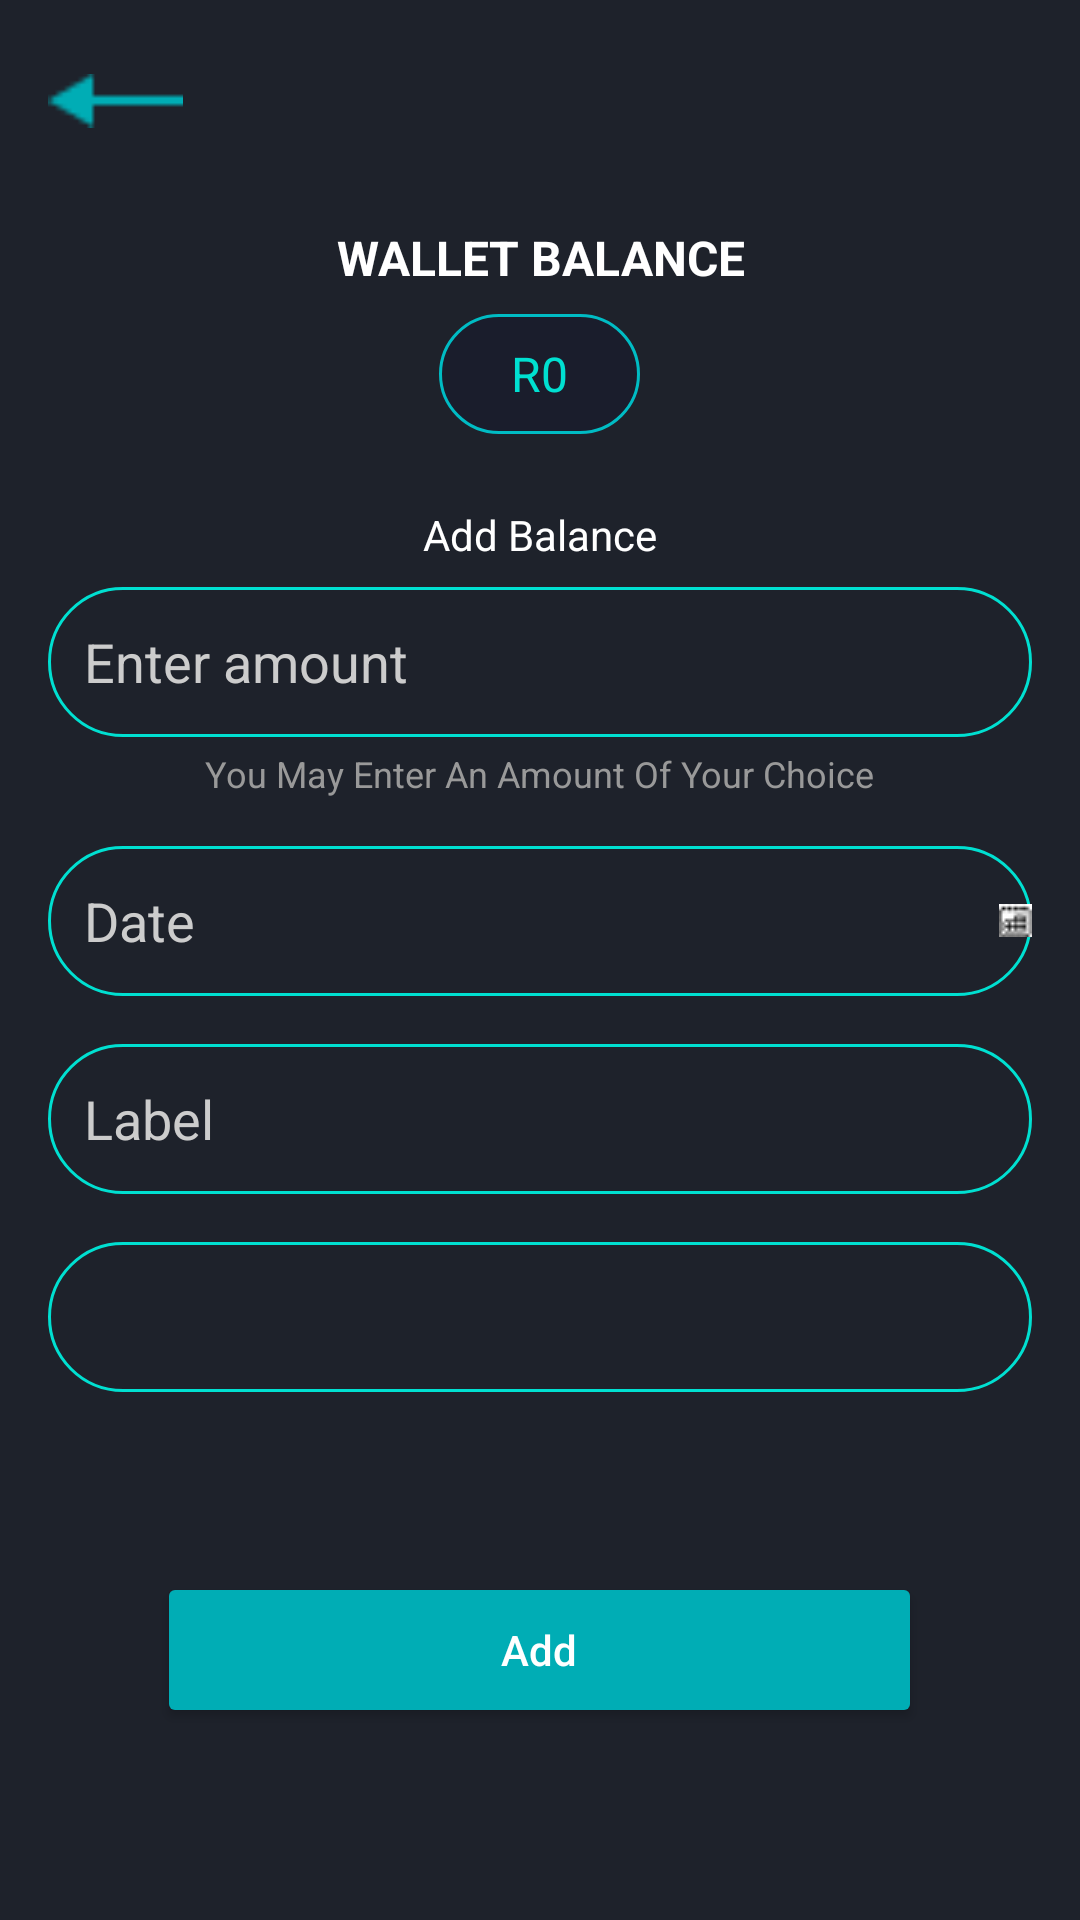

Screen size 1080w x 1920h. Icon name, then its box in pixels as (x1, y1, x2, y2):
Back: (48, 74, 183, 128)
